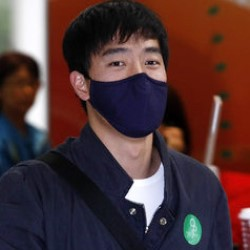mask: (82, 70, 171, 141)
